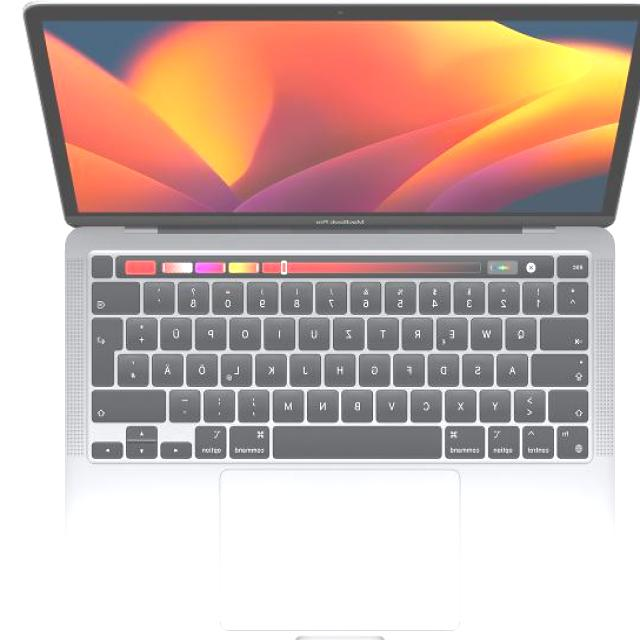0: (214, 276, 247, 312)
1: (525, 277, 558, 311)
2: (491, 276, 524, 312)
3: (457, 276, 490, 312)
4: (421, 276, 454, 312)
5: (387, 276, 420, 312)
6: (353, 276, 386, 312)
7: (318, 276, 351, 312)
8: (284, 276, 317, 312)
9: (250, 276, 283, 312)
a: (500, 349, 532, 383)
accent: (146, 276, 178, 310)
ae: (155, 349, 187, 383)
alt-left: (490, 421, 523, 457)
altgr-right: (198, 422, 231, 456)
b: (344, 385, 377, 419)
c: (413, 385, 447, 419)
caret: (561, 277, 593, 311)
comma: (241, 385, 274, 419)
d: (431, 349, 464, 383)
del: (94, 277, 144, 311)
e: (440, 313, 472, 347)
enter: (93, 313, 127, 384)
f: (397, 349, 429, 383)
g: (362, 349, 394, 383)
h: (327, 348, 360, 384)
hash: (121, 349, 153, 382)
i: (267, 313, 299, 347)
j: (293, 348, 325, 384)
k: (259, 349, 291, 383)
keyboard: (83, 248, 604, 467)
l: (225, 349, 257, 383)
less: (517, 385, 550, 419)
m: (276, 385, 309, 419)
minus: (173, 385, 205, 419)
n: (310, 385, 344, 419)
o: (232, 313, 266, 347)
oe: (190, 349, 223, 383)
p: (199, 313, 231, 347)
plus: (130, 313, 162, 347)
point: (206, 385, 239, 419)
q: (508, 312, 541, 348)
r: (405, 313, 438, 347)
s: (465, 349, 498, 383)
shift-left: (551, 385, 595, 419)
shift-lock: (534, 348, 593, 384)
shift-right: (95, 385, 171, 419)
space: (276, 422, 446, 456)
ss: (180, 276, 213, 312)
strg-left: (524, 421, 558, 457)
t: (371, 313, 403, 347)
tab: (544, 313, 592, 347)
u: (301, 313, 333, 347)
ue: (164, 313, 197, 347)
v: (379, 385, 412, 419)
w: (474, 313, 506, 347)
x: (447, 385, 480, 419)
y: (482, 385, 514, 419)
z: (336, 313, 369, 347)
